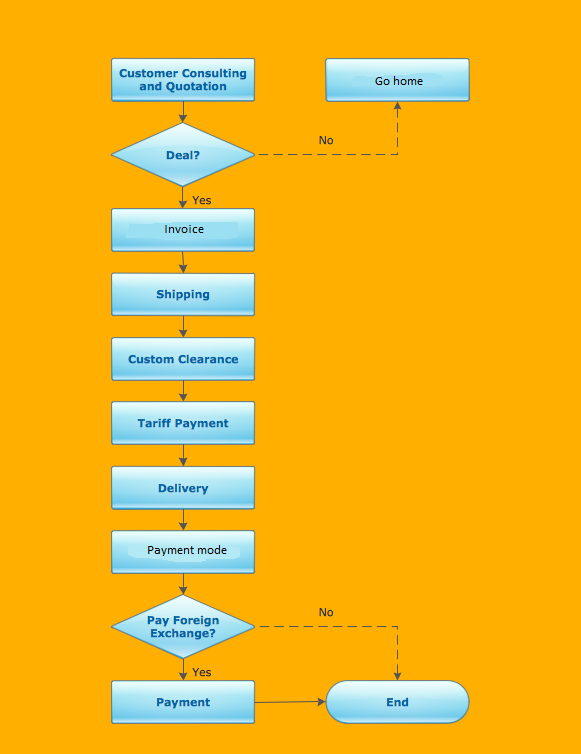arrow: (251, 99, 404, 162), (250, 622, 405, 682), (251, 696, 327, 707), (177, 655, 194, 683), (175, 94, 190, 125), (174, 506, 190, 535), (174, 378, 191, 404), (175, 248, 191, 275), (175, 314, 191, 340), (175, 181, 189, 210), (175, 571, 190, 596), (175, 441, 189, 467)
decision: (109, 119, 257, 187), (109, 593, 257, 660)
process: (320, 53, 473, 105), (108, 203, 259, 255), (108, 333, 258, 385), (109, 53, 258, 105), (108, 526, 257, 578), (108, 397, 259, 448), (108, 268, 257, 319), (108, 463, 258, 513), (108, 676, 257, 726)
terminator: (322, 678, 470, 727)
text: (116, 64, 248, 93), (143, 610, 221, 641), (133, 414, 232, 432), (125, 351, 239, 366), (143, 542, 228, 560), (152, 283, 211, 305), (152, 693, 211, 710), (154, 481, 212, 496), (158, 219, 205, 236), (370, 72, 422, 87), (164, 145, 202, 163), (383, 693, 410, 710), (189, 191, 212, 209), (189, 663, 216, 678), (314, 132, 335, 147), (317, 606, 337, 619)
